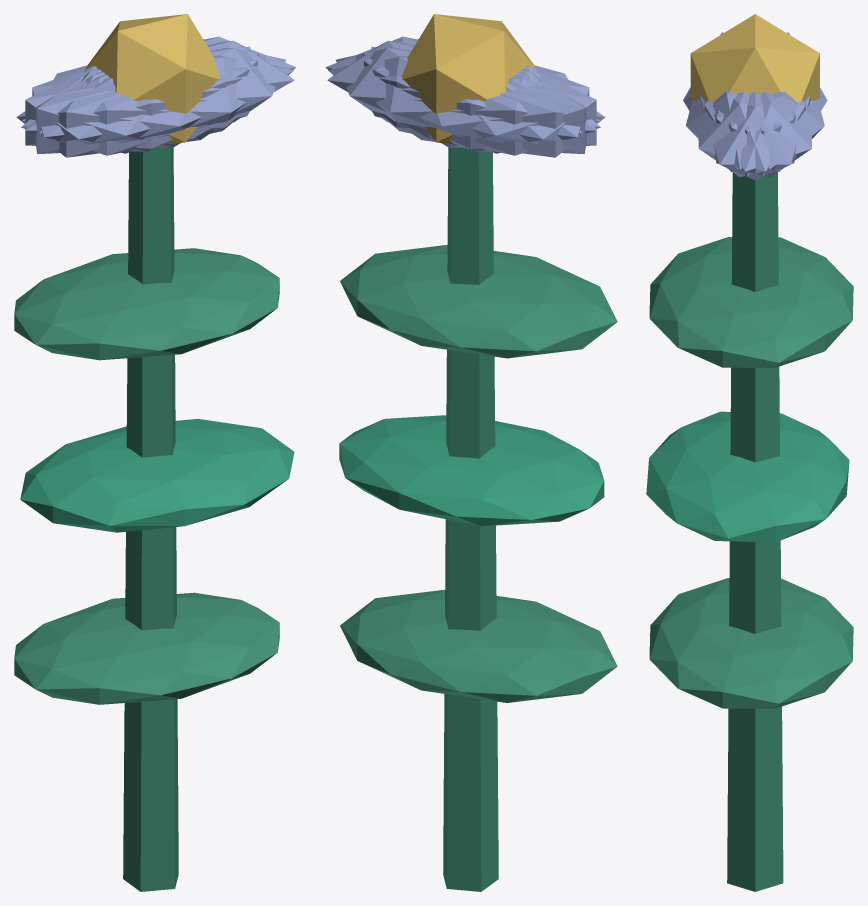
File: syzygium-samarangense.glb
3 views of the same model, side by side, from view 1: azimuth 30°, elevation 25°; view 2: azimuth 150°, elevation 25°; view 3: azimuth 270°, elevation 25° (orthographic).
Visible parts, largest first — view 1: stem, leaf1, leaf2, leaf0, center, petal1, petal6, petal2, petal5, petal7, petal0, petal4 (+2 smaller); view 2: stem, leaf2, leaf0, leaf1, center, petal8, petal3, petal7, petal4, petal2, petal0, petal5 (+2 smaller); view 3: stem, leaf2, leaf1, leaf0, center, petal0, petal5, petal4, petal8, petal1.
Part boxes in pixels (<box>): stem: <box>123,147,178,891</box>; leaf1: <box>20,419,294,532</box>; leaf2: <box>14,248,279,360</box>; leaf0: <box>14,592,279,704</box>; center: <box>85,14,219,144</box>; petal1: <box>21,55,293,155</box>; petal6: <box>16,67,214,157</box>; petal2: <box>35,46,250,154</box>; petal5: <box>39,47,285,148</box>; petal7: <box>25,52,258,151</box>; petal0: <box>85,40,294,139</box>; petal4: <box>22,36,296,130</box>; stem: <box>443,147,498,891</box>; leaf2: <box>340,245,617,358</box>; leaf0: <box>340,589,617,702</box>; leaf1: <box>339,415,604,526</box>; center: <box>402,14,536,144</box>; petal8: <box>328,55,600,155</box>; petal3: <box>407,67,605,157</box>; petal7: <box>371,46,586,154</box>; petal4: <box>336,47,582,148</box>; petal2: <box>363,52,596,151</box>; petal0: <box>327,40,536,139</box>; petal5: <box>325,36,599,130</box>; stem: <box>727,172,783,891</box>; leaf2: <box>649,237,853,367</box>; leaf1: <box>646,411,849,542</box>; leaf0: <box>649,578,853,708</box>; center: <box>690,14,819,102</box>; petal0: <box>699,92,810,180</box>; petal5: <box>698,92,805,176</box>; petal4: <box>704,92,812,176</box>; petal8: <box>714,91,824,169</box>; petal1: <box>686,91,795,169</box>.
Size of the model in its own units: 0.1468 by 0.443 by 0.0981.
